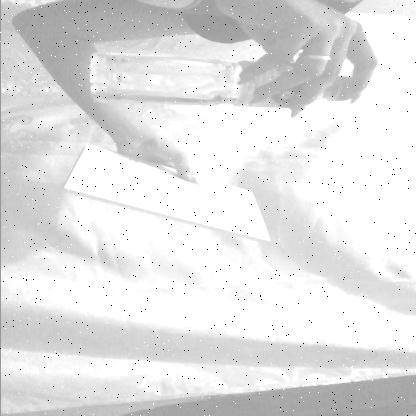Plastic Bottle: (86, 57, 358, 104)
